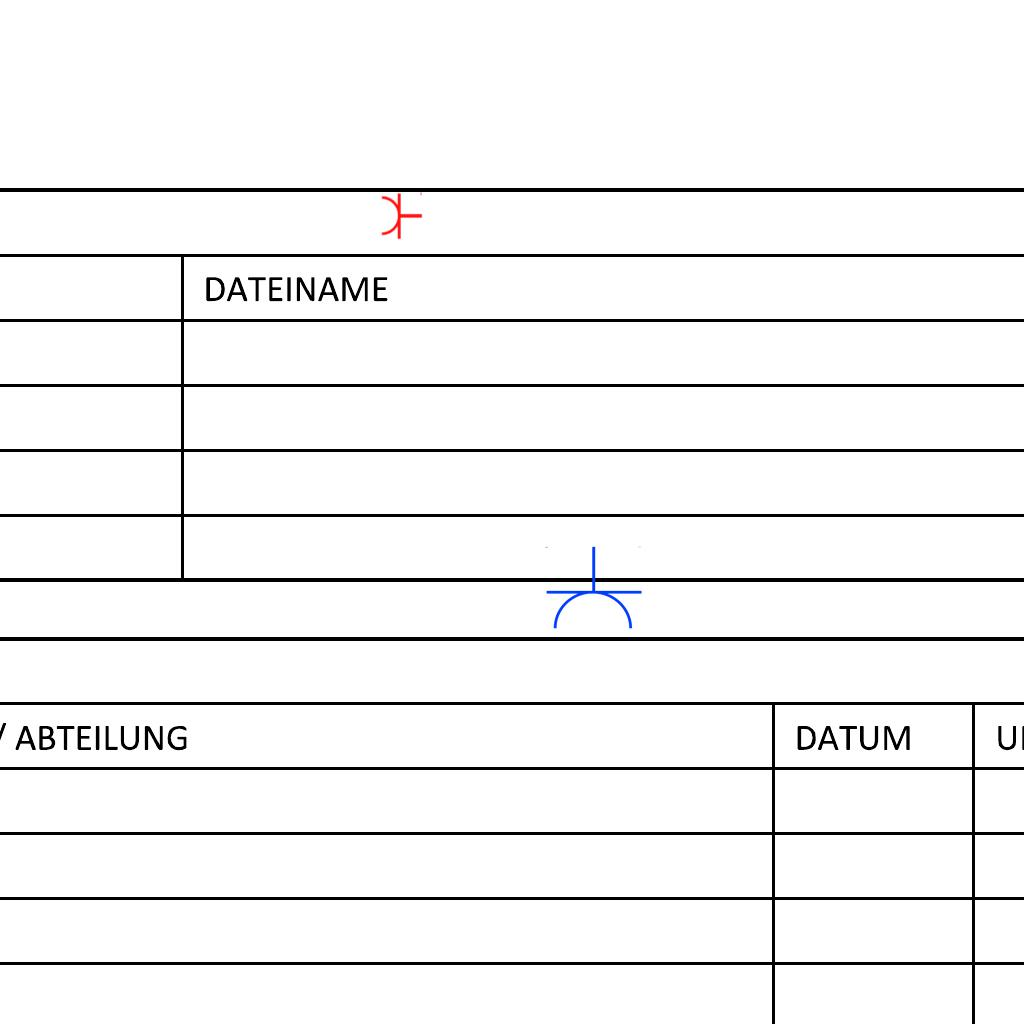Schukosteckdose_einfach: (543, 546, 643, 633), (380, 190, 423, 240)
